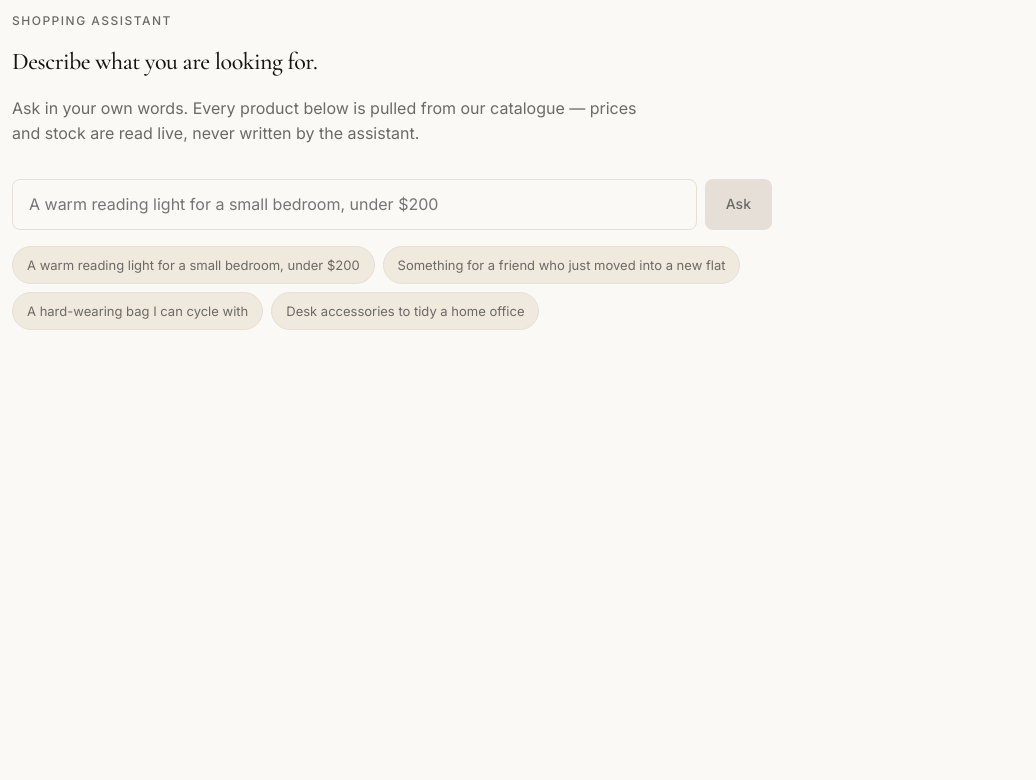
Test: AssistantPage › renders each recommendation with the model reason and a live price
Type "reading light" into the field named "looking for" at (354, 204), box [12,179,697,230]
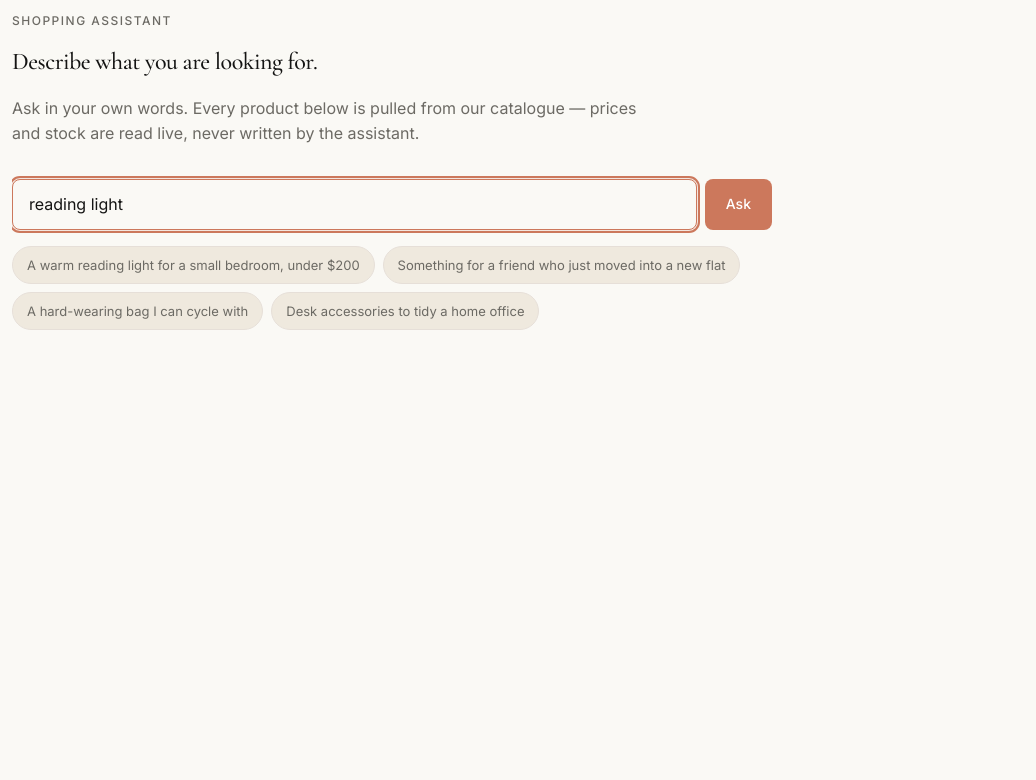
Click the button "Ask" at (738, 204), box [705,179,772,230]
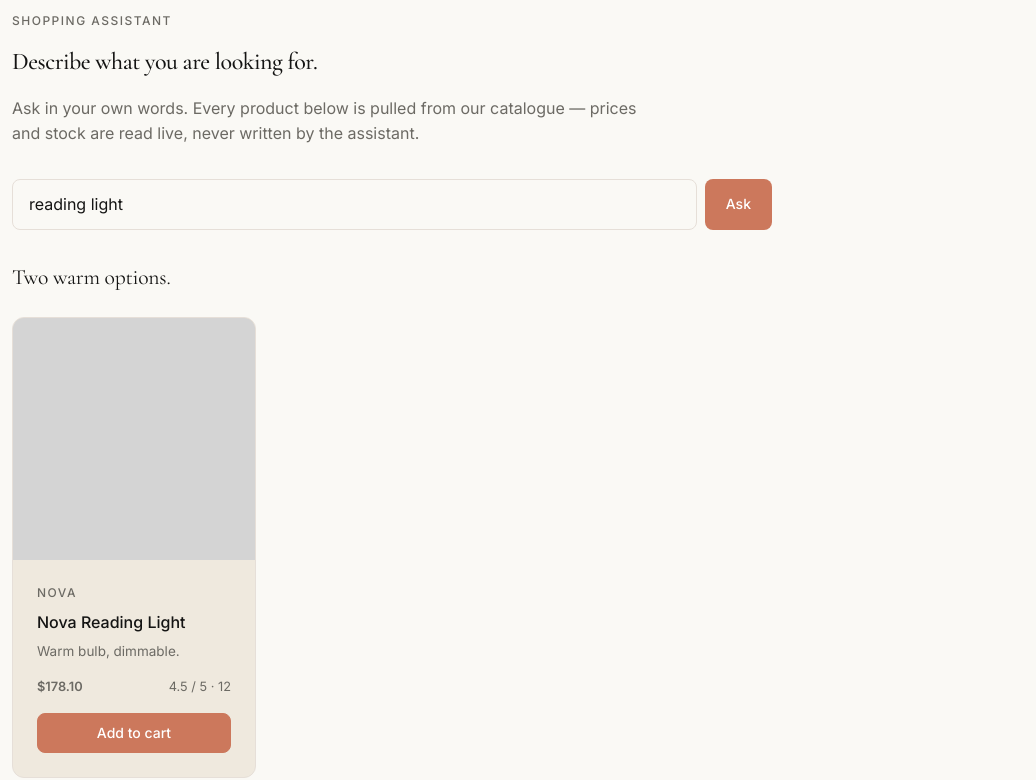
Check: the text "Two warm options." is shown, box [12,264,170,290]
Check: the heading "Nova Reading Light" is shown, box [37,612,186,632]
Check: the text "Warm bulb, dimmable." is shown, box [37,643,180,659]
